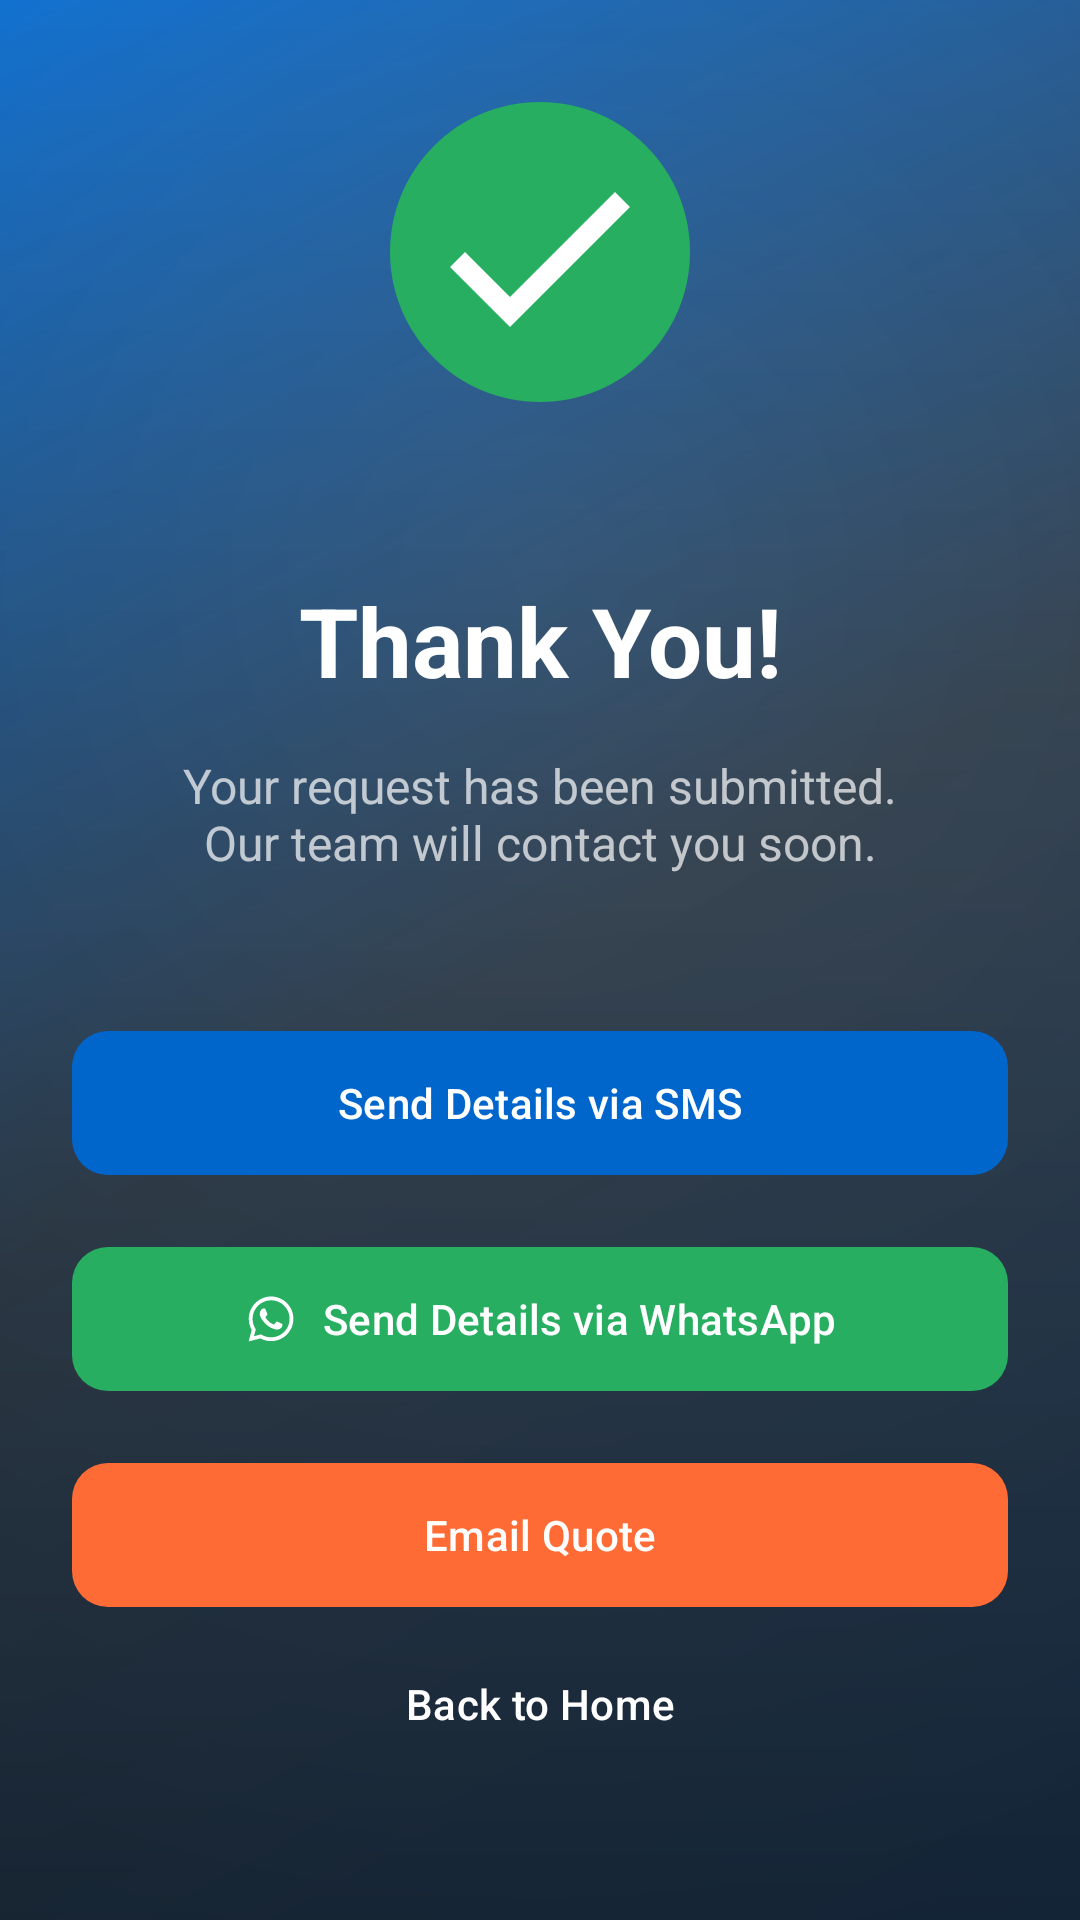

Point at icon controls on the screen. Image size 1080x1920, points as point (x, y).
success: point (540, 252)
